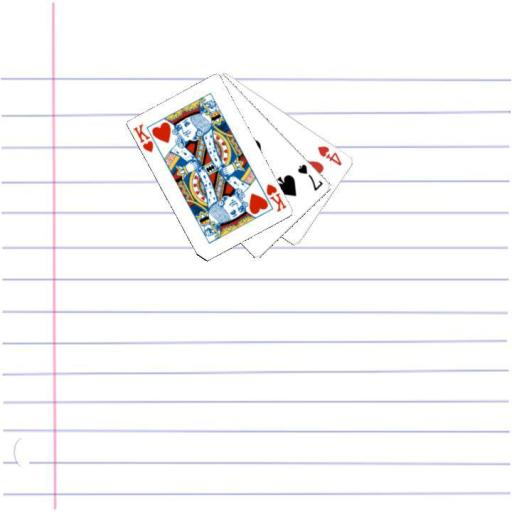4H: (315, 143, 344, 167)
7S: (294, 161, 325, 192)
KH: (263, 181, 288, 213), (131, 121, 155, 154)
